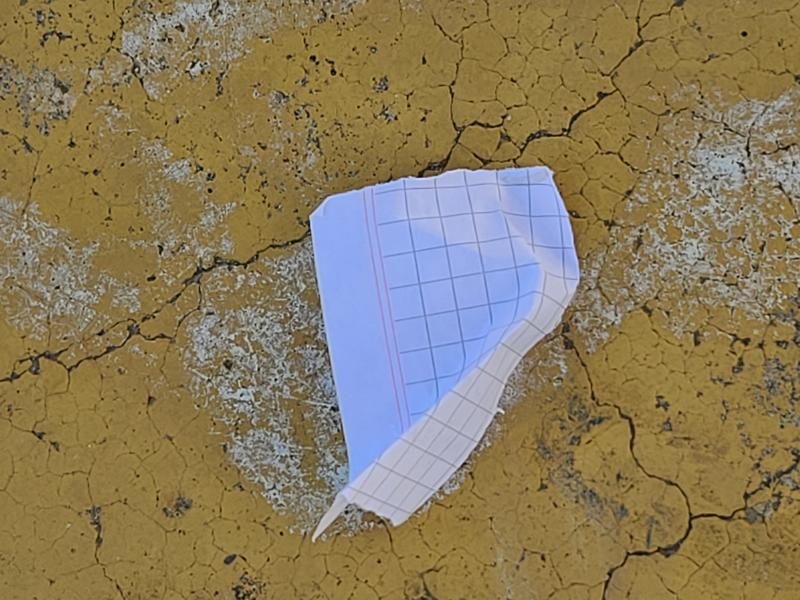papel: (309, 166, 581, 537)
